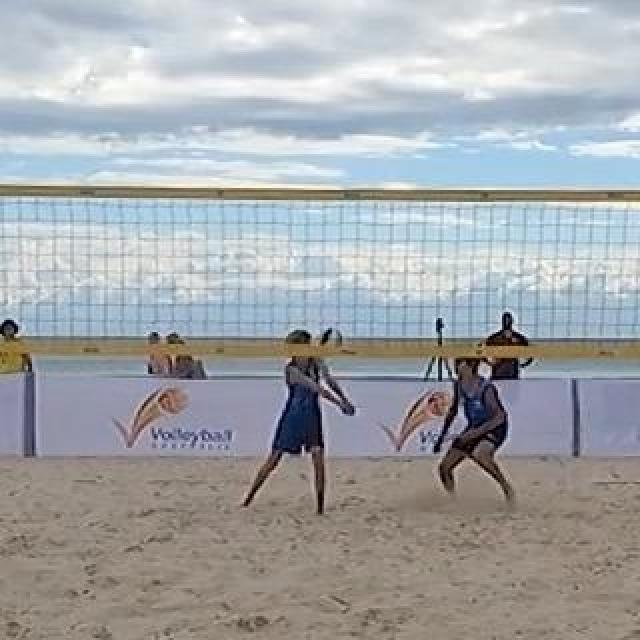volleyball: (316, 327, 344, 353)
